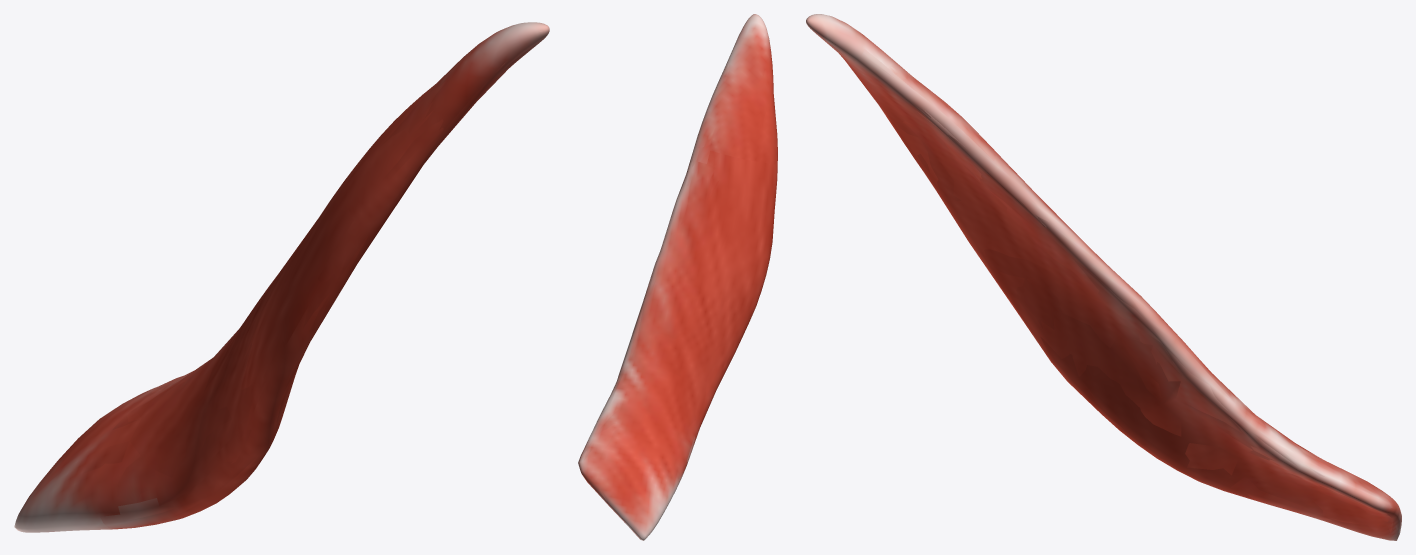
Rendered from R Rhomboideus Cervicis.fbx.
The picture shows the model from 3 angles, left to right: view 1: azimuth 30°, elevation 25°; view 2: azimuth 150°, elevation 25°; view 3: azimuth 270°, elevation 25°; orthographic projection. The views are drawn at different scales.
Visible parts, largest first — view 1: R Rhomboideus Cervicis, R Rhomboideus Cervicis low; view 2: R Rhomboideus Cervicis, R Rhomboideus Cervicis low; view 3: R Rhomboideus Cervicis, R Rhomboideus Cervicis low.
Boxes of the visible parts, x1,y1,x2,y2 form: R Rhomboideus Cervicis: [14, 22, 549, 532]; R Rhomboideus Cervicis low: [15, 31, 543, 532]; R Rhomboideus Cervicis: [578, 14, 777, 540]; R Rhomboideus Cervicis low: [582, 38, 777, 537]; R Rhomboideus Cervicis: [806, 14, 1401, 540]; R Rhomboideus Cervicis low: [820, 17, 1401, 540].
Size of the model in its own units: 9.24 by 38.75 by 36.06.
